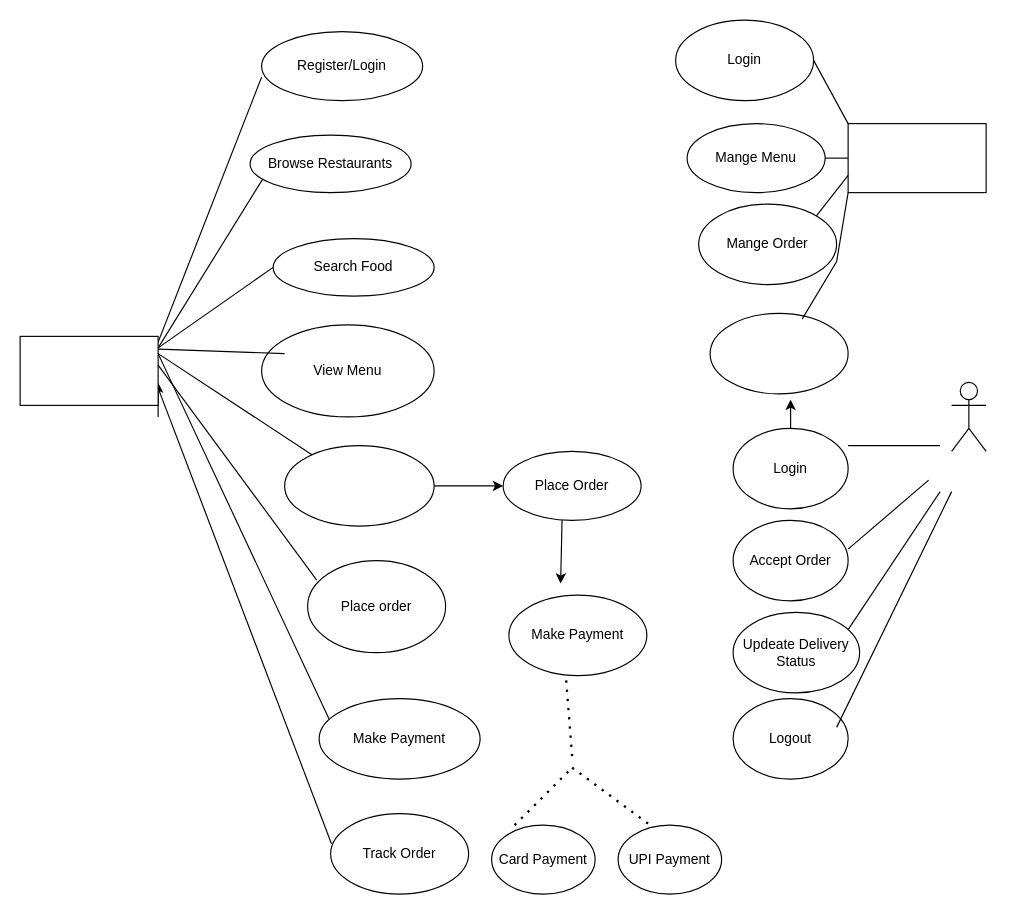
The diagram is 1025 pixels wide and 914 high, and some of its shapes have lost their labels. Each missing label, with the box of its shape:
Add to cart: (283, 444, 434, 526)
CUSTOMER: (19, 335, 158, 405)
DELIVERY PARTNER: (950, 381, 986, 451)
RESTAURANT ADMIN: (847, 122, 986, 193)
Update order Status: (709, 312, 848, 394)
